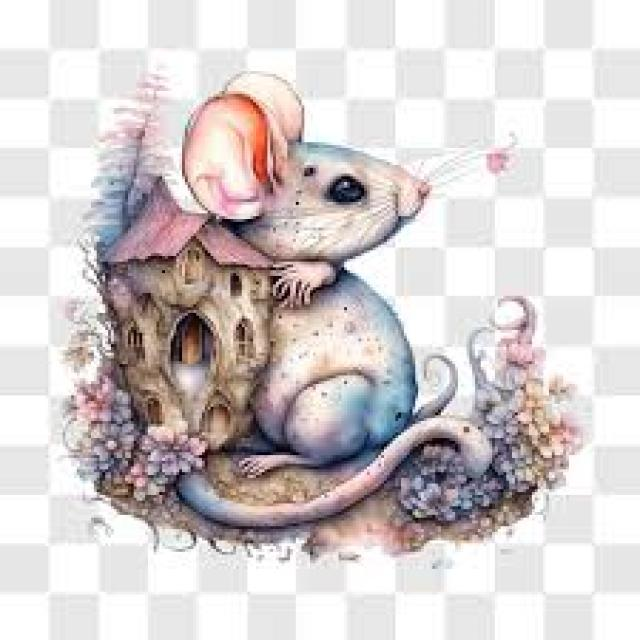rat: (85, 65, 432, 310)
